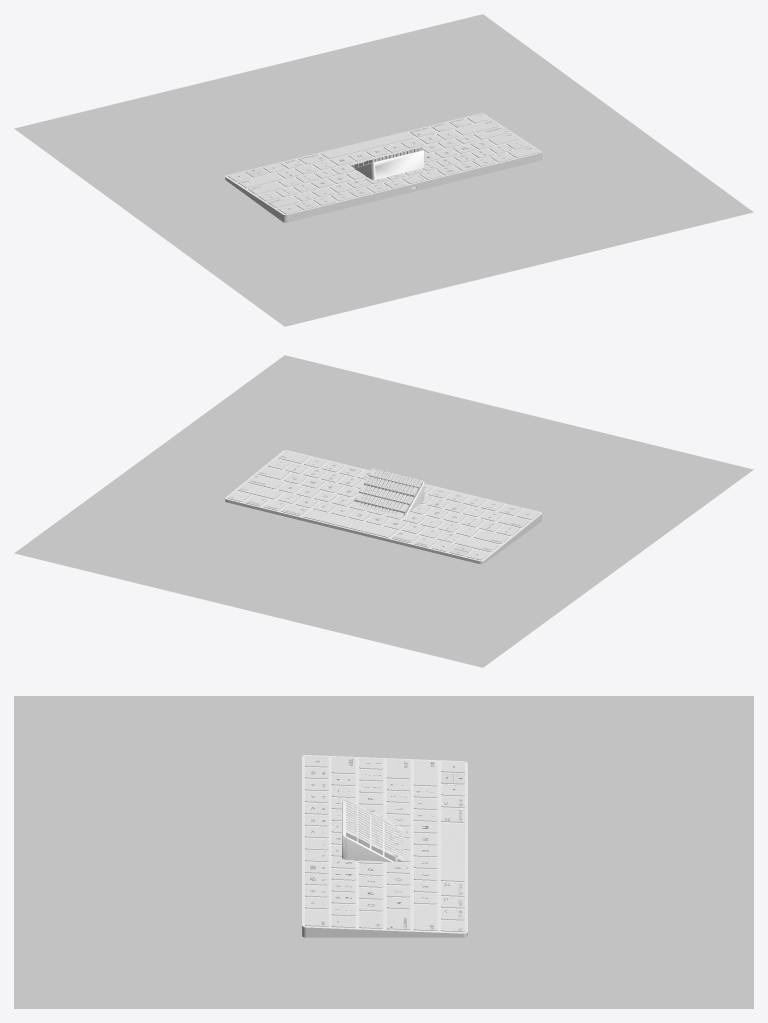
Rendered from unapi-keyboard.glb.
3 views of the same model, one above another, from view 1: azimuth 30°, elevation 25°; view 2: azimuth 150°, elevation 25°; view 3: azimuth 270°, elevation 25° (orthographic). The views are drawn at different scales.
Visible parts, largest first — view 1: Plane, KeyboardBaru; view 2: Plane, KeyboardBaru; view 3: Plane, KeyboardBaru.
Boxes of the visible parts, left/top/right/bottom form: Plane: left=14, top=14, right=753, bottom=326; KeyboardBaru: left=225, top=113, right=541, bottom=222; Plane: left=14, top=355, right=753, bottom=667; KeyboardBaru: left=225, top=450, right=541, bottom=564; Plane: left=14, top=696, right=753, bottom=1008; KeyboardBaru: left=302, top=755, right=467, bottom=937.
Size of the model in its own units: 17.64 by 2.02 by 17.64.
2 materials, 1 textured.
